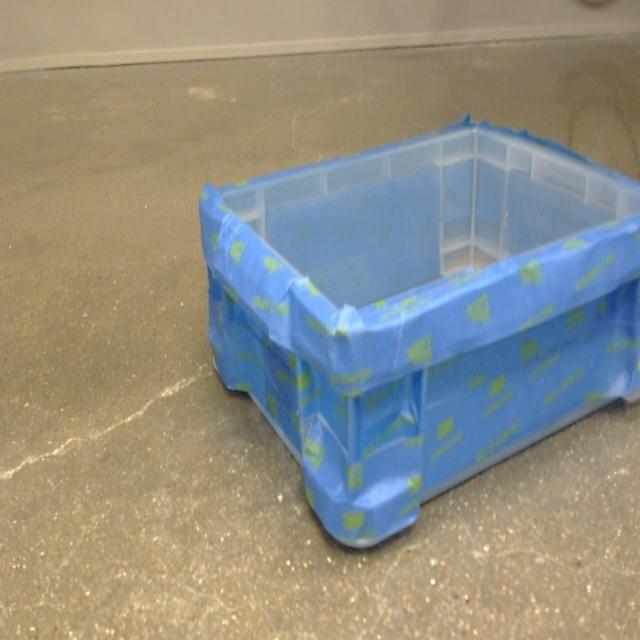bucket: (198, 116, 640, 554)
